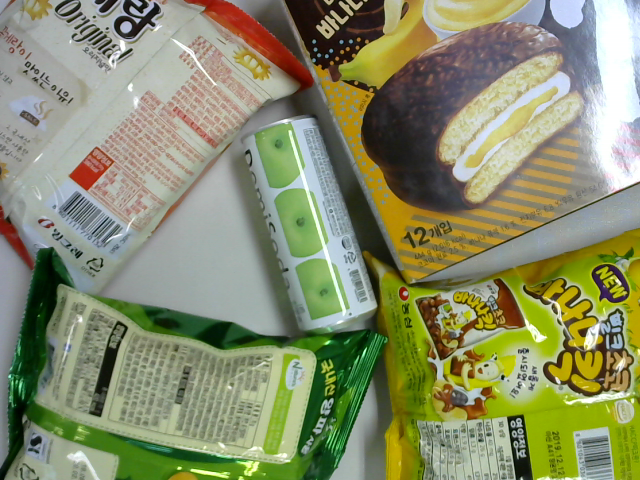Banana_Kick: (361, 228, 640, 480)
Choco_Pie_Banana: (280, 1, 639, 289)
Crabrang: (1, 1, 316, 303)
Demisoda_Apple_Can_250ml: (238, 112, 382, 334)
Grilled_Onions: (1, 244, 387, 479)
